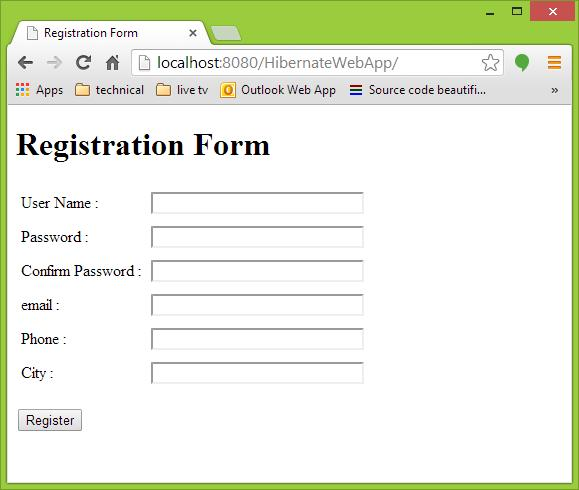button: (14, 406, 84, 436)
textbox: (145, 189, 372, 220)
